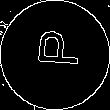P_W: (29, 35, 81, 75)
